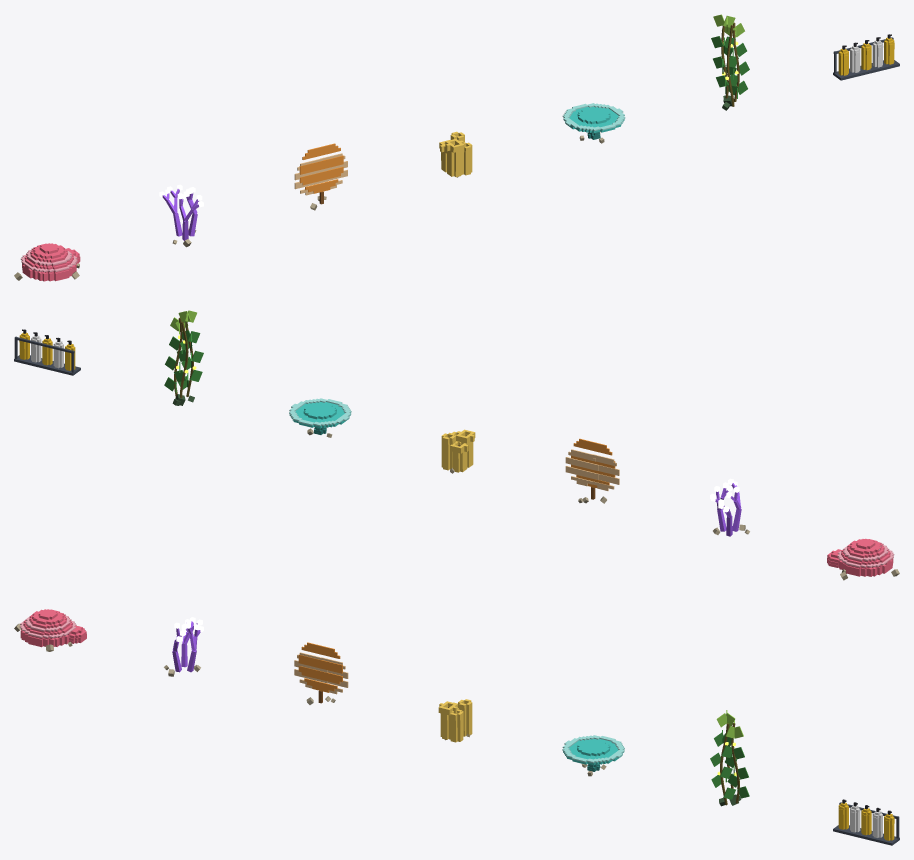
The model's file is world_bundle_1.glb.
3 views of the same model, one above another, from view 1: azimuth 30°, elevation 25°; view 2: azimuth 150°, elevation 25°; view 3: azimuth 330°, elevation 25° (orthographic).
Parts seen in each view (by area): view 1: CORAL_Brain_Main, CORAL_Fan_Main, CORAL_Tube_Main, KELP_Main, CORAL_Table_Main, CORAL_Branch_Main, AIR_RACK_Main, CORAL_Fan_Tip, KELP_Stem, CORAL_Table_Tip, AIR_RACK_Tip; view 2: CORAL_Brain_Main, CORAL_Fan_Tip, CORAL_Tube_Main, KELP_Main, CORAL_Table_Main, CORAL_Fan_Main, AIR_RACK_Stem, AIR_RACK_Main, CORAL_Branch_Main, CORAL_Table_Tip, KELP_Stem; view 3: CORAL_Brain_Main, CORAL_Fan_Main, CORAL_Tube_Main, KELP_Main, CORAL_Table_Main, AIR_RACK_Main, CORAL_Branch_Main, CORAL_Fan_Tip, CORAL_Table_Tip, AIR_RACK_Tip, AIR_RACK_Stem.
Part boxes in pixels (bbox=[...]): CORAL_Brain_Main: bbox=[22, 243, 80, 281]; CORAL_Fan_Main: bbox=[299, 143, 343, 193]; CORAL_Tube_Main: bbox=[439, 131, 472, 177]; KELP_Main: bbox=[711, 36, 749, 98]; CORAL_Table_Main: bbox=[564, 106, 624, 133]; CORAL_Branch_Main: bbox=[162, 189, 198, 240]; AIR_RACK_Main: bbox=[838, 37, 894, 75]; CORAL_Fan_Tip: bbox=[294, 153, 347, 195]; KELP_Stem: bbox=[721, 22, 739, 106]; CORAL_Table_Tip: bbox=[562, 103, 625, 130]; AIR_RACK_Tip: bbox=[850, 40, 883, 72]; CORAL_Brain_Main: bbox=[827, 538, 893, 576]; CORAL_Fan_Tip: bbox=[565, 449, 619, 490]; CORAL_Tube_Main: bbox=[441, 429, 475, 472]; KELP_Main: bbox=[164, 330, 203, 392]; CORAL_Table_Main: bbox=[289, 402, 350, 428]; CORAL_Fan_Main: bbox=[571, 438, 615, 487]; AIR_RACK_Stem: bbox=[14, 336, 80, 375]; AIR_RACK_Main: bbox=[19, 332, 75, 370]; CORAL_Branch_Main: bbox=[715, 483, 741, 536]; CORAL_Table_Tip: bbox=[289, 398, 351, 426]; KELP_Stem: bbox=[174, 317, 193, 398]; CORAL_Brain_Main: bbox=[20, 609, 86, 647]; CORAL_Fan_Main: bbox=[298, 642, 342, 692]; CORAL_Tube_Main: bbox=[438, 699, 472, 742]; KELP_Main: bbox=[710, 730, 749, 799]; CORAL_Table_Main: bbox=[563, 738, 623, 765]; AIR_RACK_Main: bbox=[838, 802, 894, 840]; CORAL_Branch_Main: bbox=[172, 621, 200, 672]; CORAL_Fan_Tip: bbox=[294, 652, 348, 694]; CORAL_Table_Tip: bbox=[562, 735, 624, 763]; AIR_RACK_Tip: bbox=[850, 805, 882, 837]; AIR_RACK_Stem: bbox=[833, 802, 899, 845].
Bounding box in the file's own units: 38.78 × 3.92 × 2.59.
